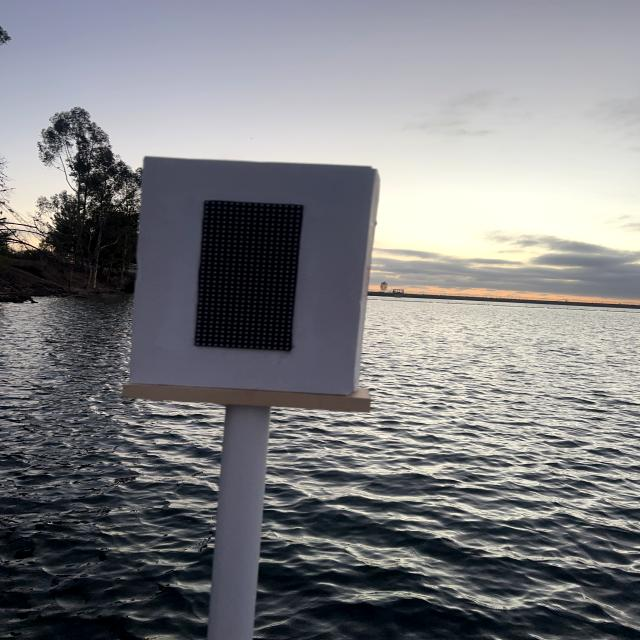led: (162, 173, 342, 382)
